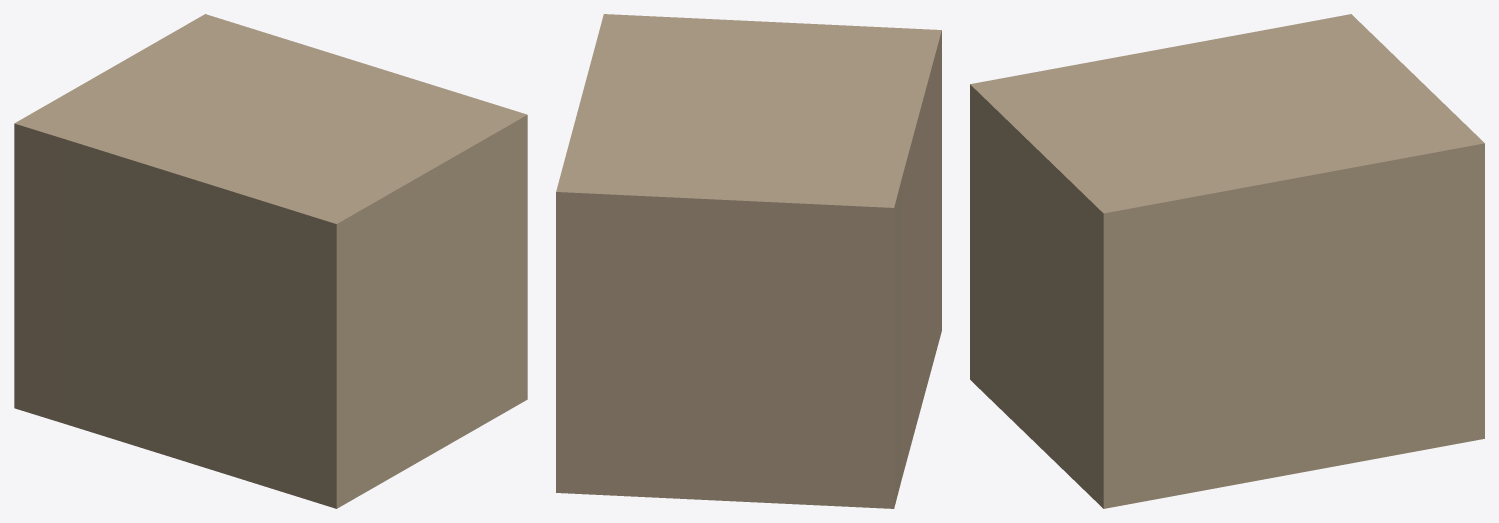
File: bld_99615895.dae
The picture shows the model from 3 angles, left to right: view 1: azimuth 30°, elevation 25°; view 2: azimuth 150°, elevation 25°; view 3: azimuth 270°, elevation 25°; orthographic projection. The views are drawn at different scales.
Parts seen in each view (by area): view 1: bld_99615895; view 2: bld_99615895; view 3: bld_99615895.
Boxes of the visible parts, box(x1,y1,x2,y2) form: bld_99615895: box(14, 14, 527, 508); bld_99615895: box(556, 14, 941, 508); bld_99615895: box(970, 14, 1484, 508).
Size of the model in its own units: 11.59 by 12.64 by 8.
